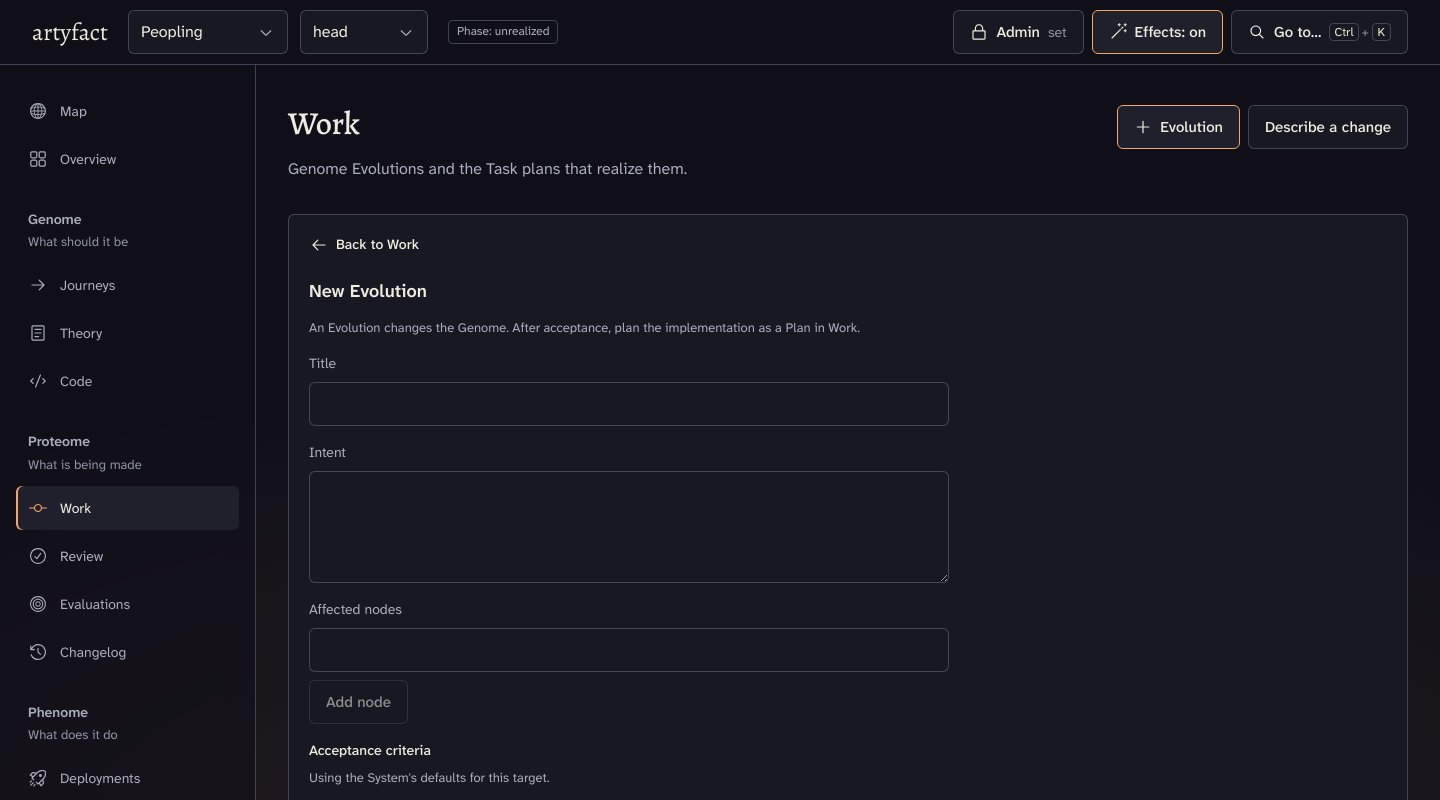
New Evolution › creates an Evolution with affected nodes and risk, selects it and lists it in Proposed
Type "Reminder nudges" into the field labelled "Title" at (629,404), box [309, 382, 949, 426]
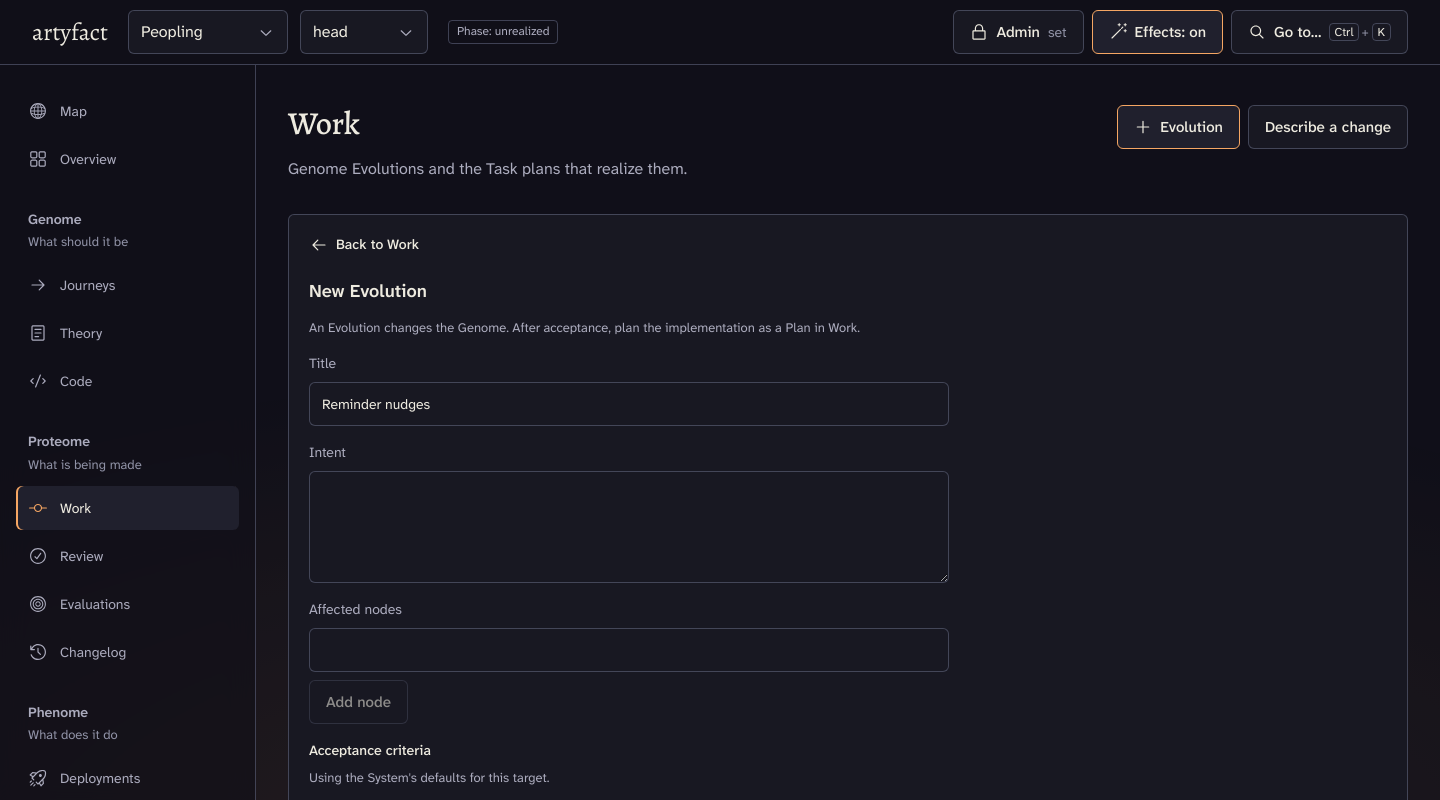
Type "Nudge owners" into the text box labelled "Intent" at (629,527), box [309, 471, 949, 583]
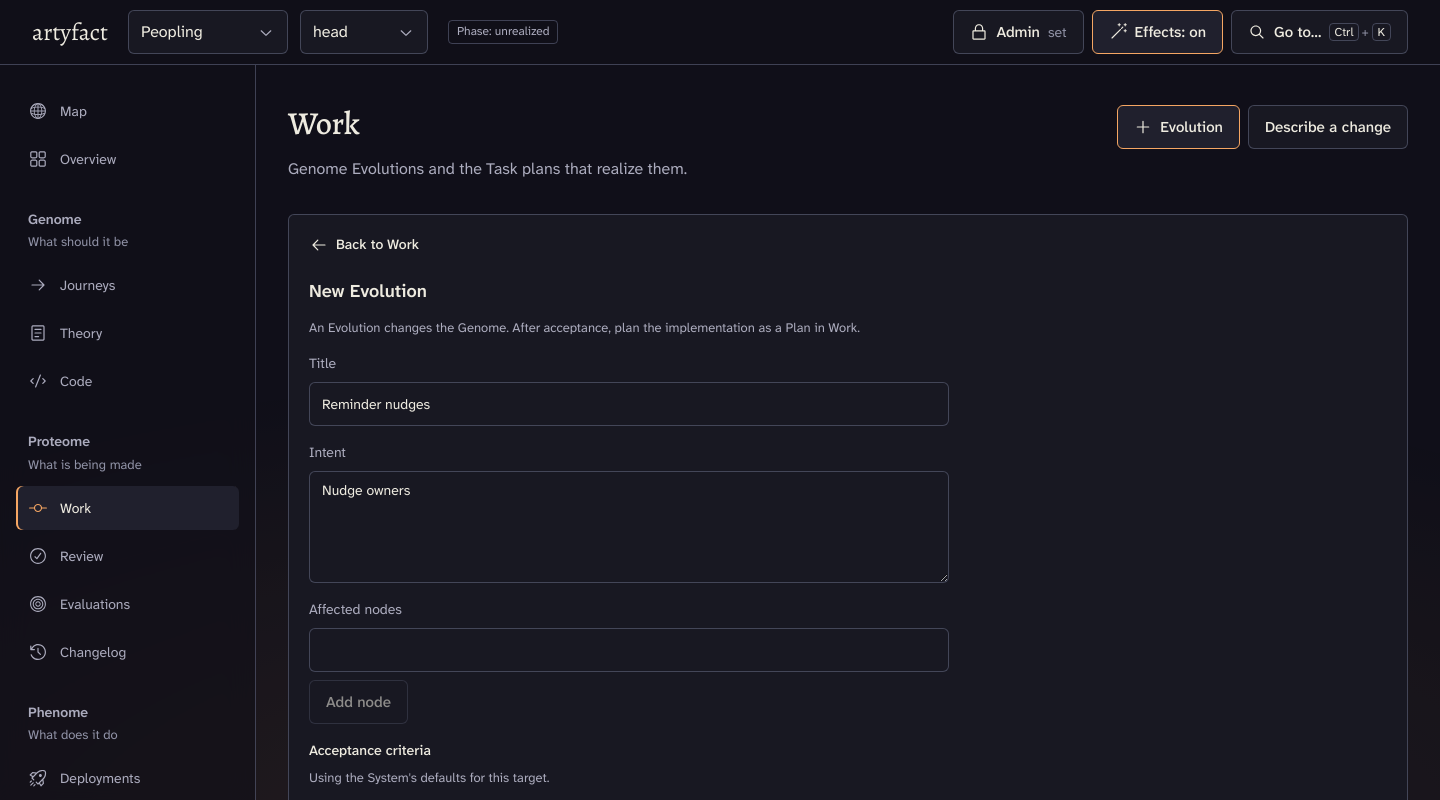
Type "screen.people" into the field labelled "Affected nodes" at (629,650), box [309, 628, 949, 672]
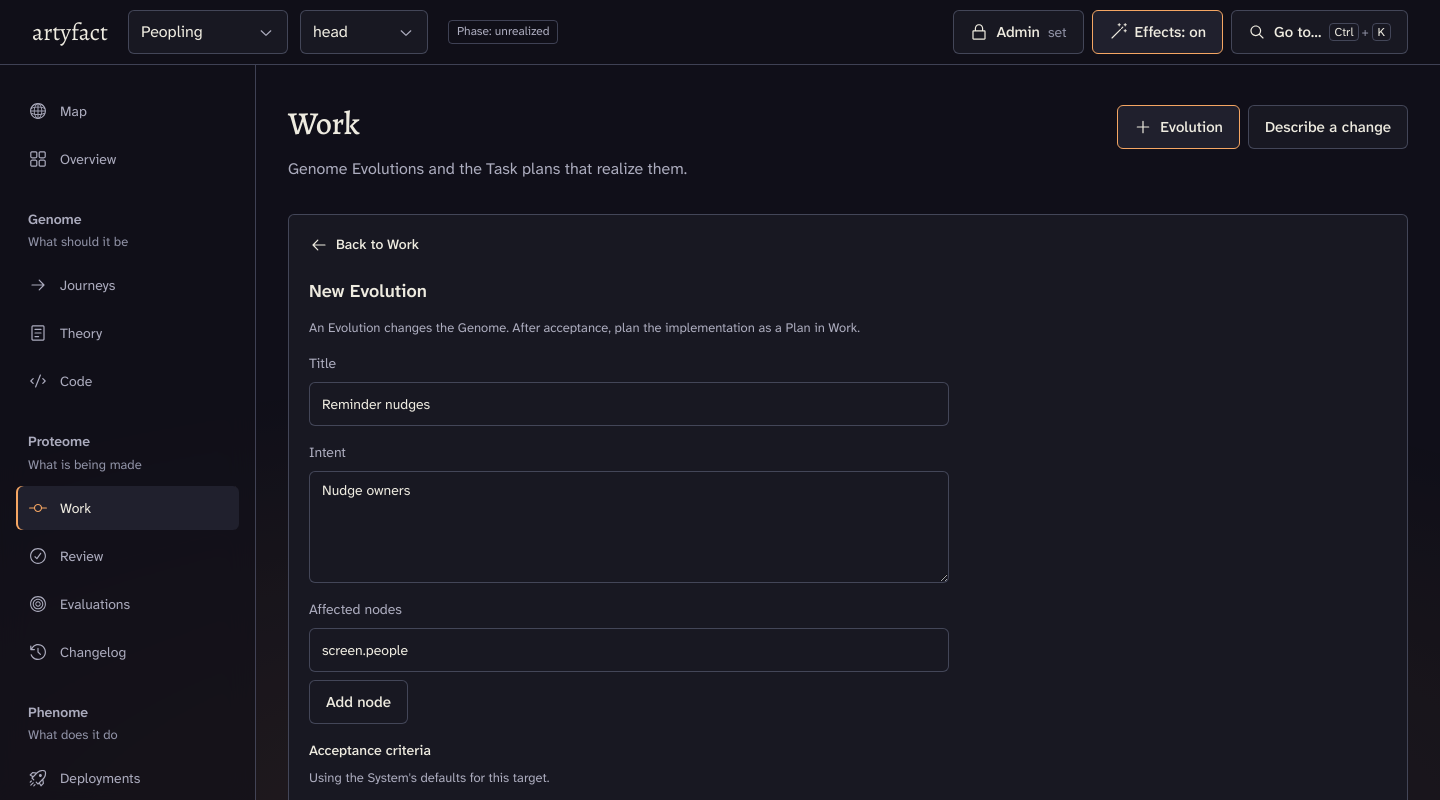
Click the button "Add node" at (358,702), box [309, 680, 408, 724]
(page scrolled)
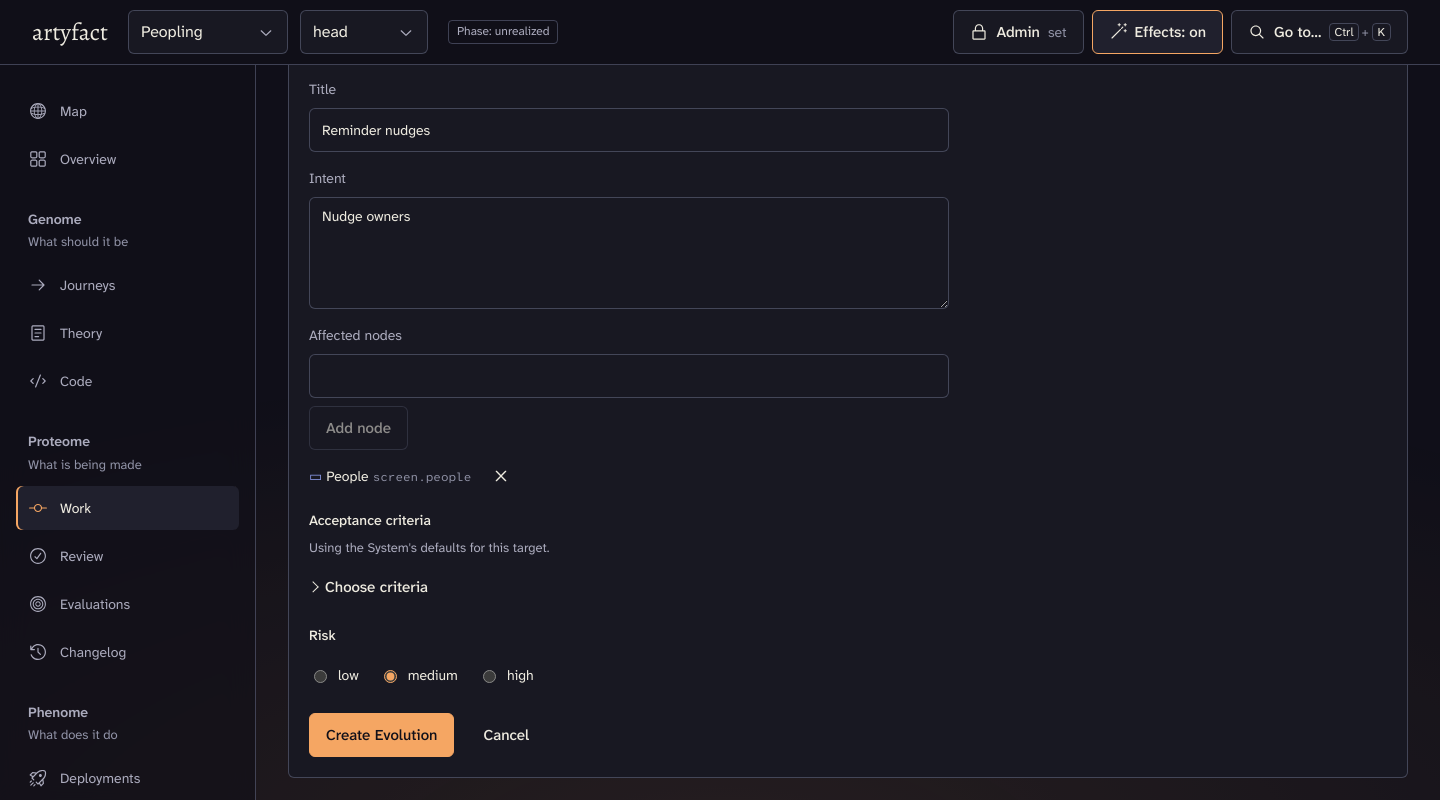
Now the button named "Remove screen.people" is shown, box [479, 458, 523, 494]
Click the radio button labelled "low" at (320,677), box [314, 670, 327, 683]
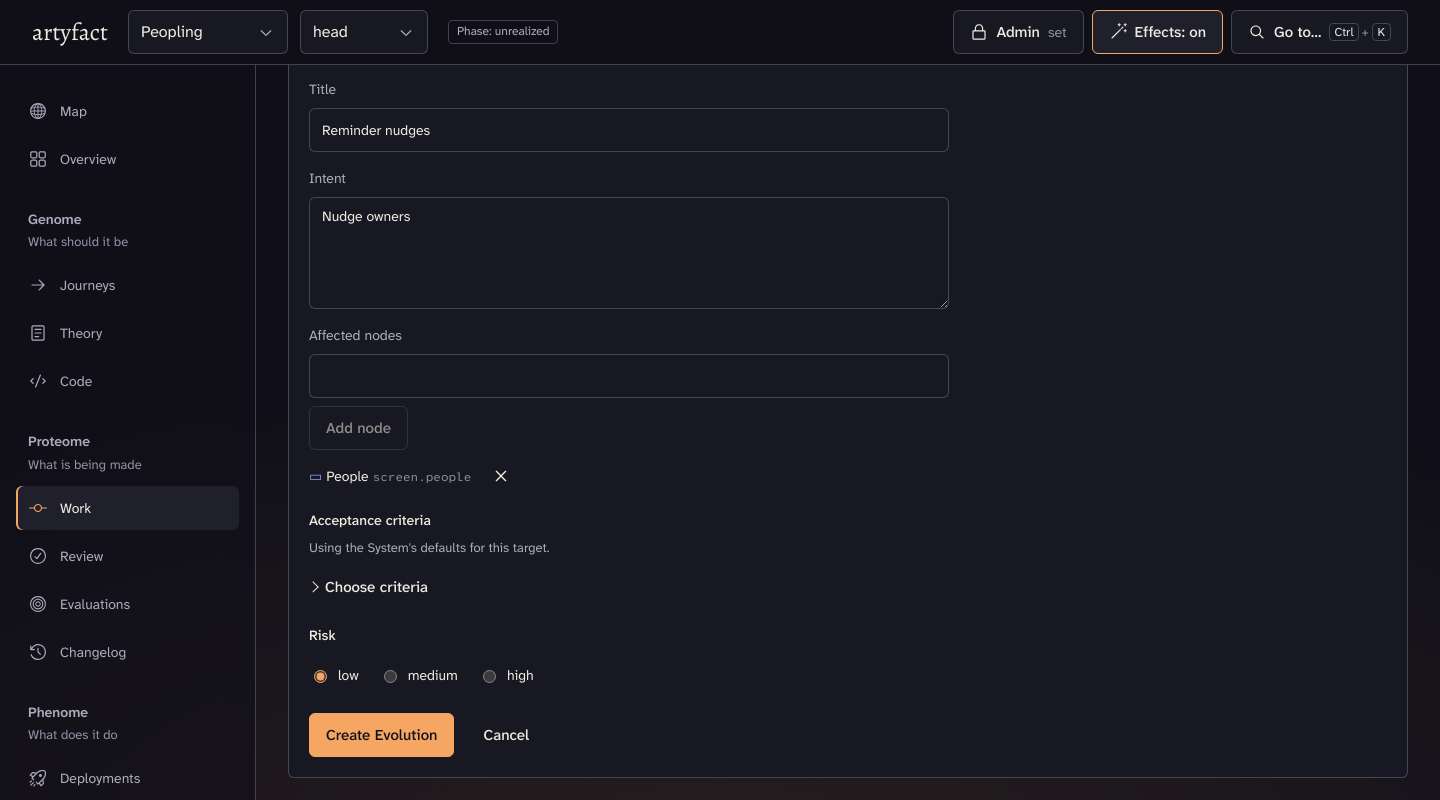
Click the button "Create Evolution" at (382,735), box [309, 713, 454, 757]
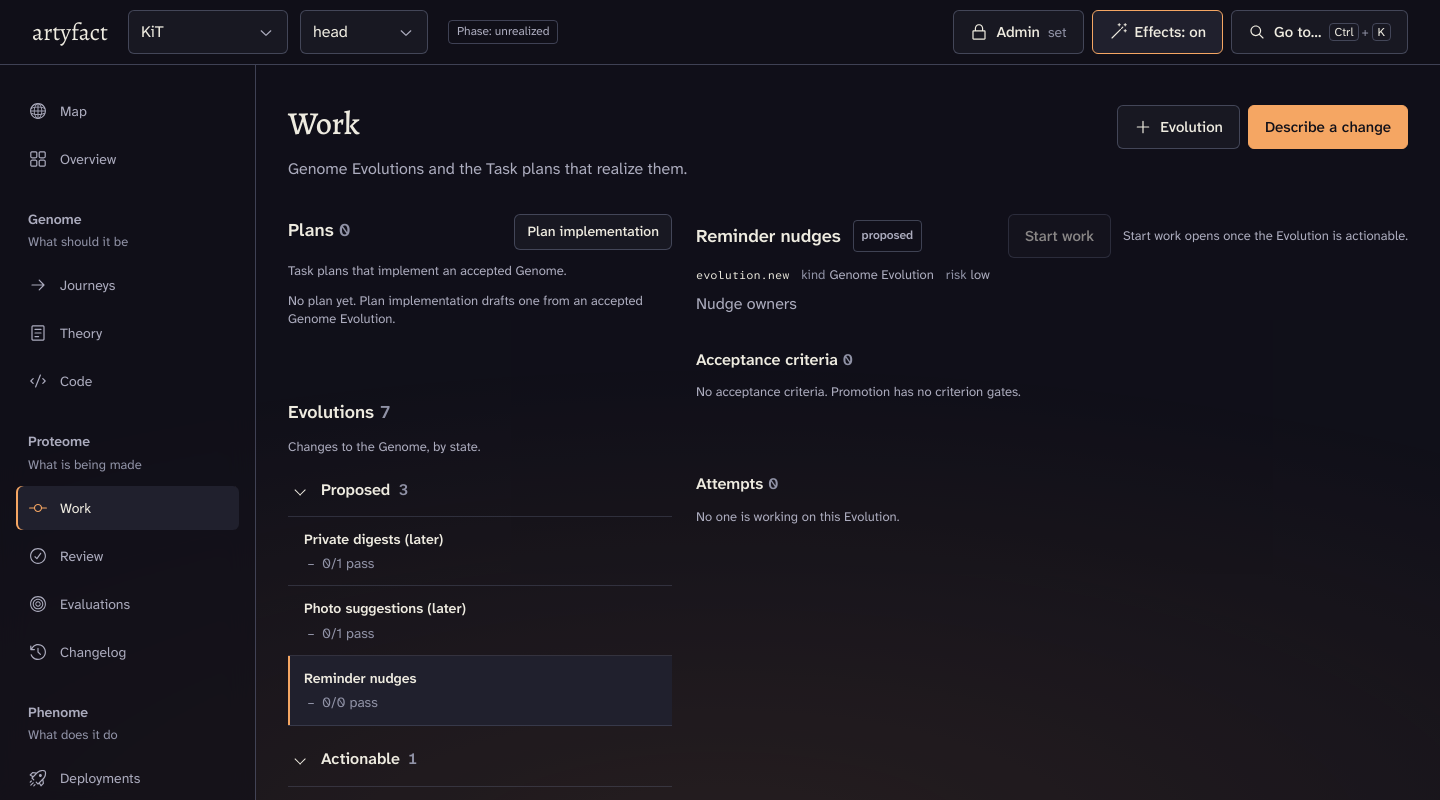
Expected: the heading "New Evolution" is not shown
Now the element that starts with "Proposed" is shown, box [288, 468, 672, 726]
Now the link "Reminder nudges 0/0 pass" is shown, box [288, 656, 672, 724]
